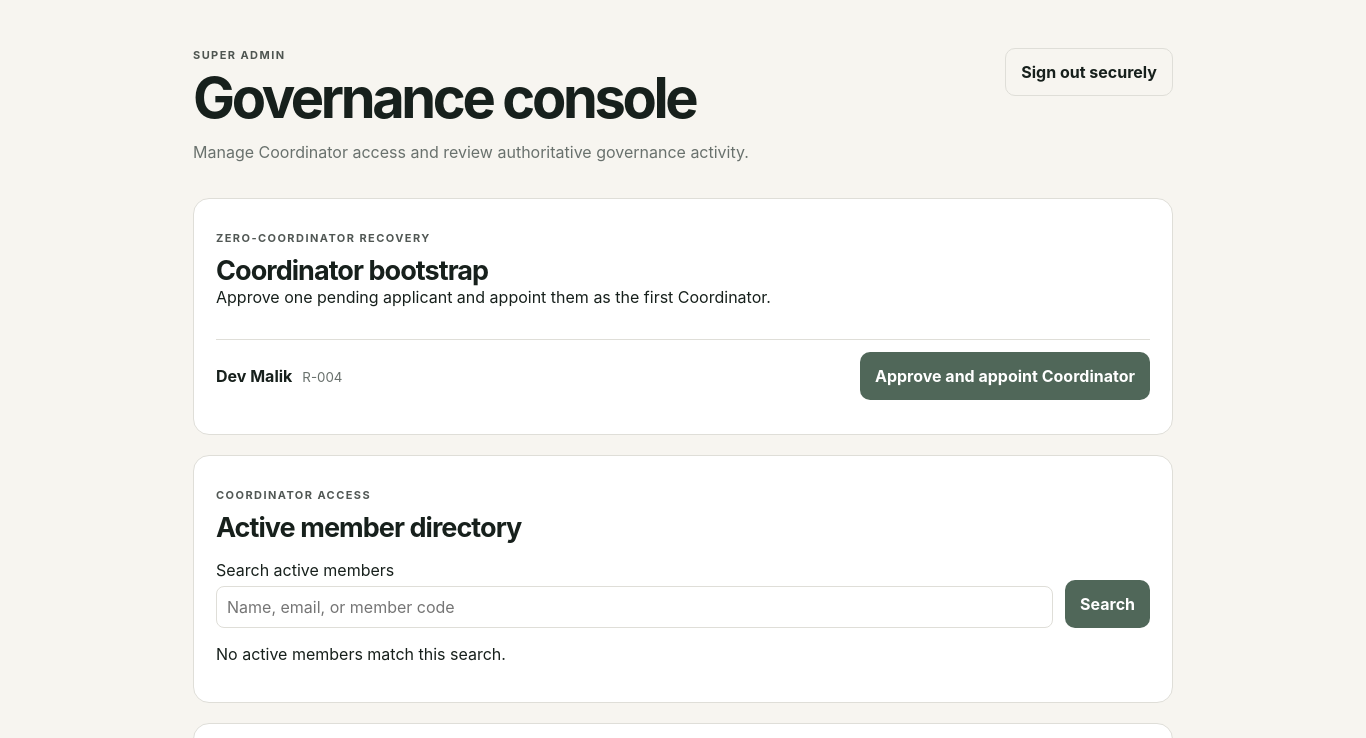
Test: SuperAdminConsole › hides the bootstrap panel and explains stale state when another actor appoints the first Coordinator
Click the button with aria-label "Approve and appoint Coordinator for Dev Malik". click: (1005,376)
box: [860,352,1150,400]
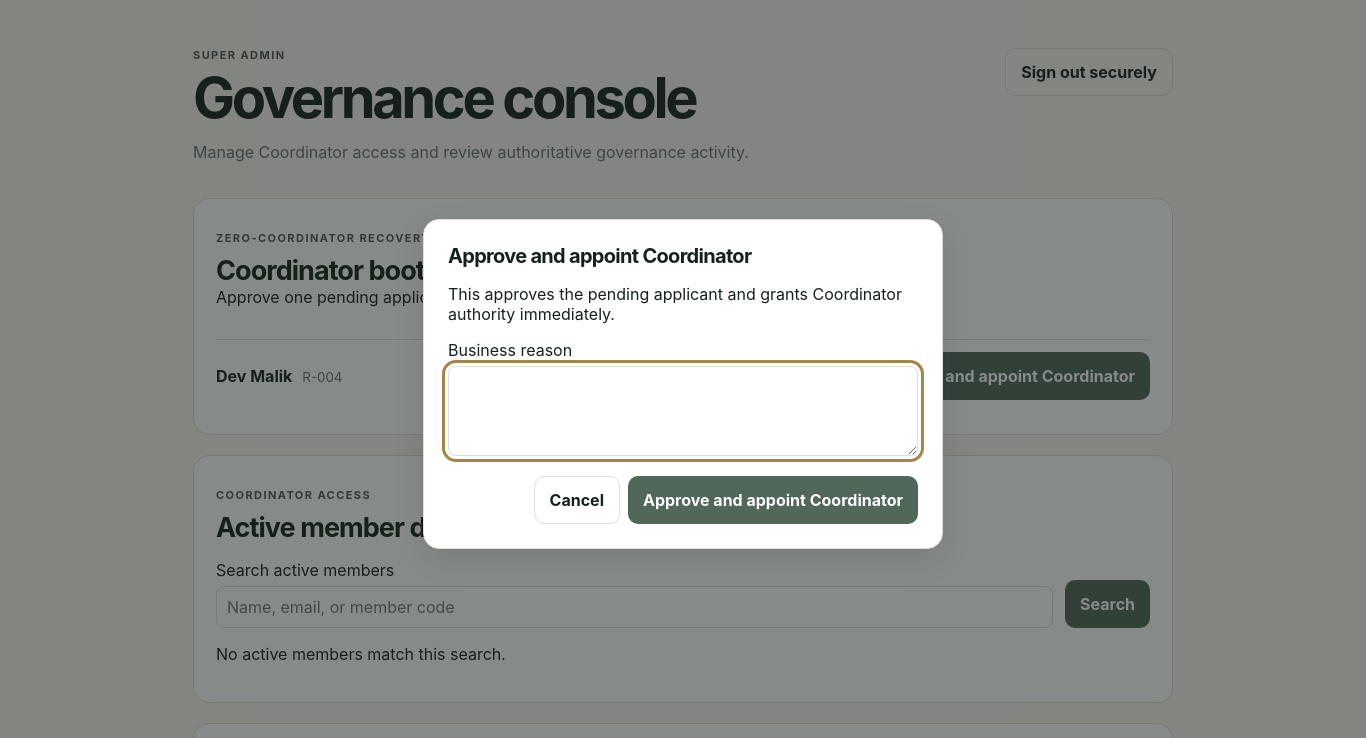
Type "Coverage" into the text box labelled "Business reason". click: (683,411)
box: [448,366,918,456]
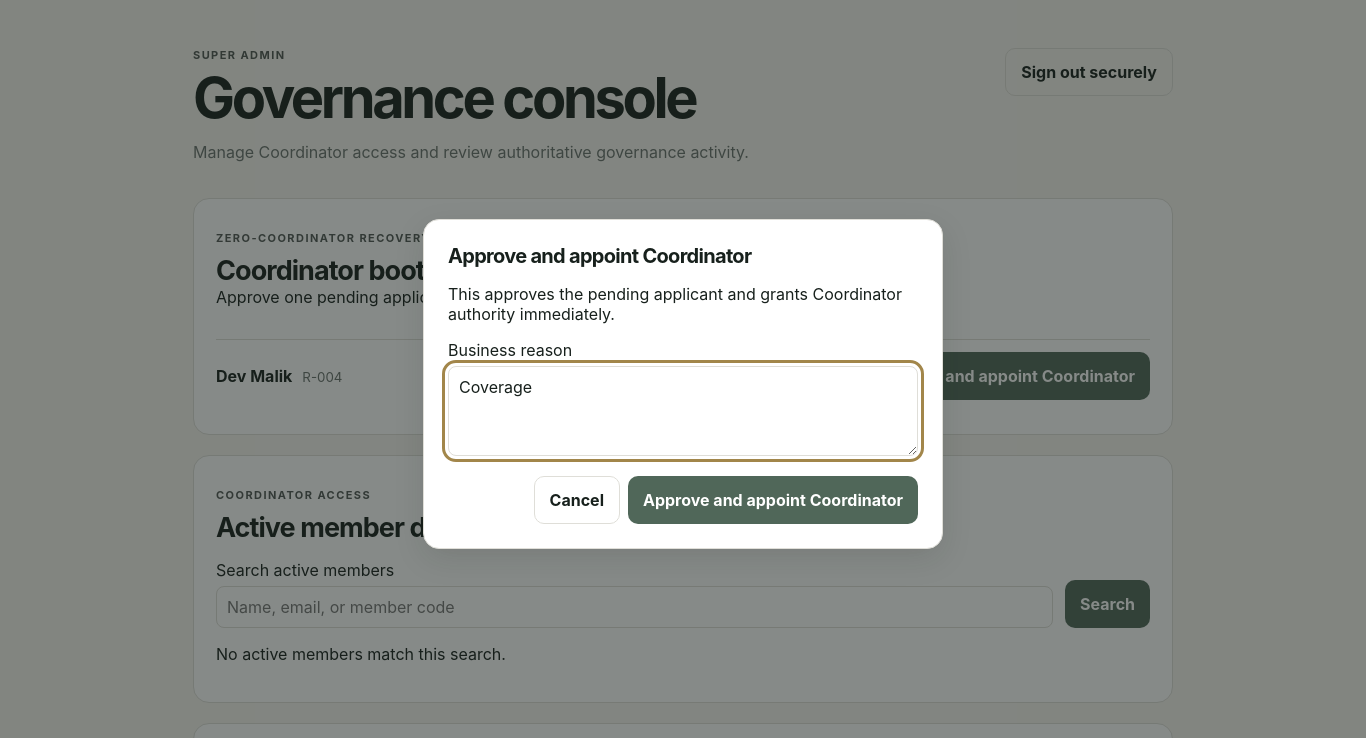
Click the button "Approve and appoint Coordinator". click: (773,500)
box: [628,476,918,524]
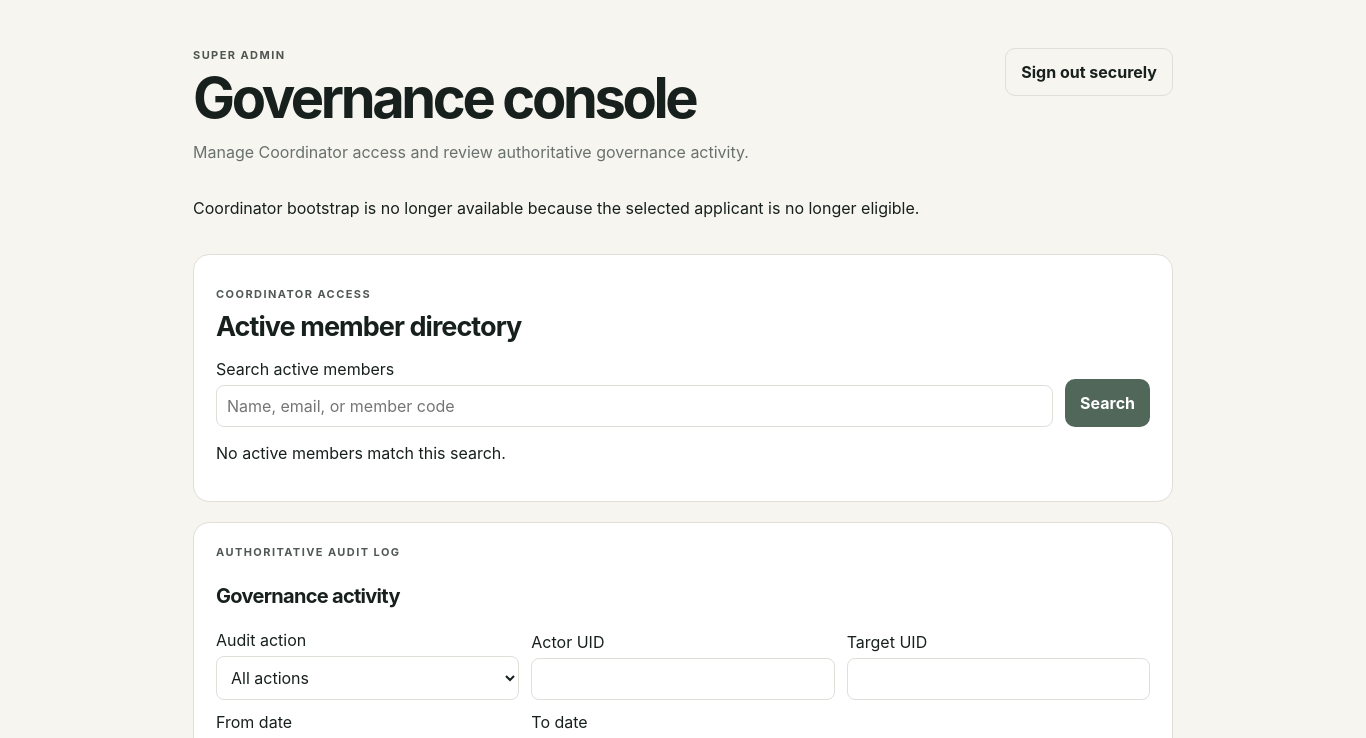
Expected: the text "Coordinator bootstrap is no longer available because the selected applicant is no longer eligible." is shown, [193,198,919,218]
